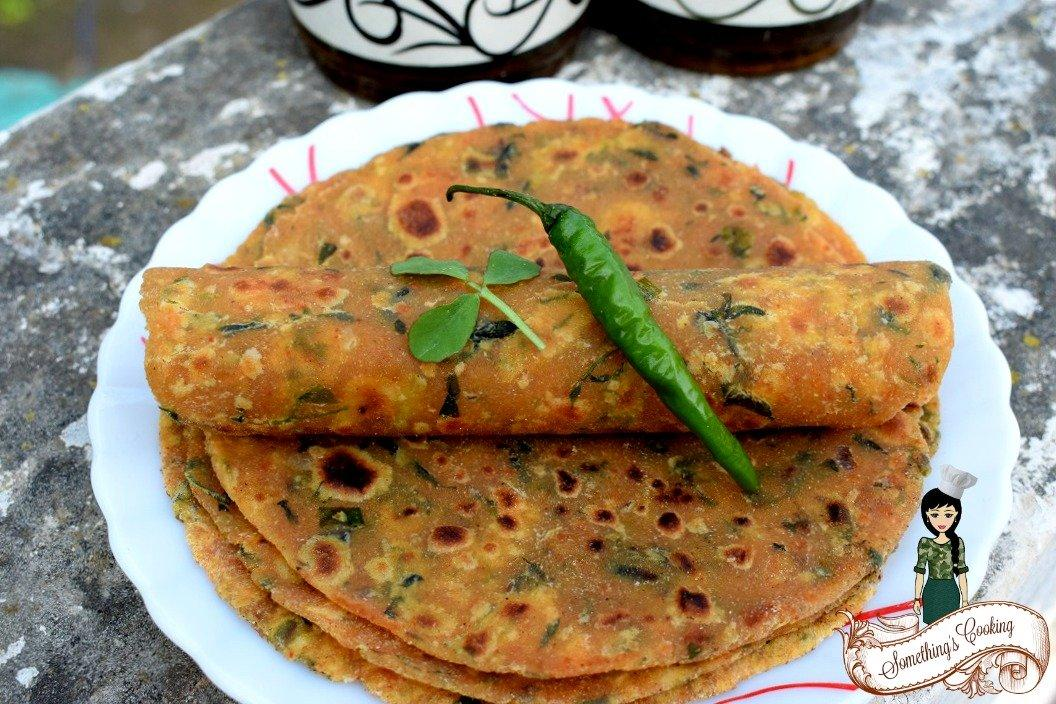thepla: (189, 83, 931, 652)
